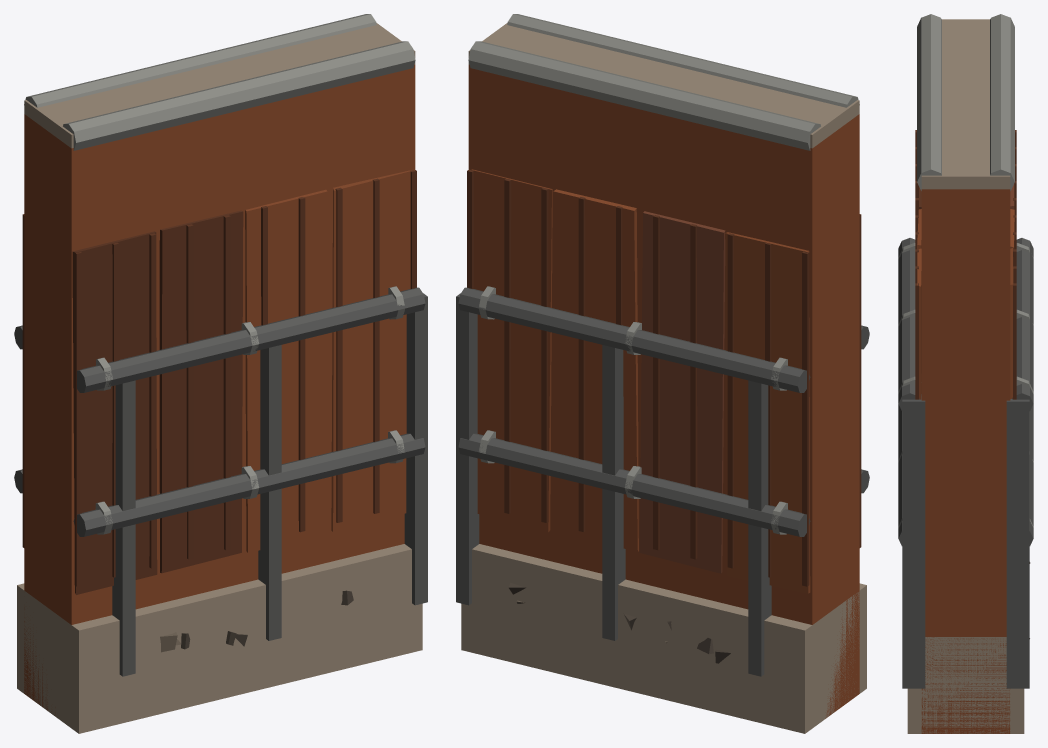
Rendered from fort_pumpworks_wall.glb.
3 views of the same model, side by side, from view 1: azimuth 30°, elevation 25°; view 2: azimuth 150°, elevation 25°; view 3: azimuth 270°, elevation 25° (orthographic). The views are drawn at different scales.
Parts seen in each view (by area): view 1: fort_pumpworks_wall; view 2: fort_pumpworks_wall; view 3: fort_pumpworks_wall.
Part boxes in pixels (bbox=[...]): fort_pumpworks_wall: bbox=[14, 14, 427, 733]; fort_pumpworks_wall: bbox=[456, 14, 869, 733]; fort_pumpworks_wall: bbox=[898, 14, 1033, 733].
Bounding box in the file's own units: 8.05 × 13.35 × 2.9.
